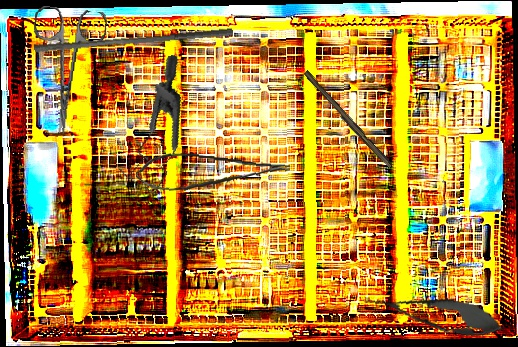Iris Scissors: (23, 5, 108, 137)
Micro Scissor: (357, 281, 511, 345), (135, 149, 291, 200)
Pusher: (33, 19, 234, 61)
Scalpel Handle: (300, 70, 395, 170)
Speculum: (90, 53, 216, 202)
